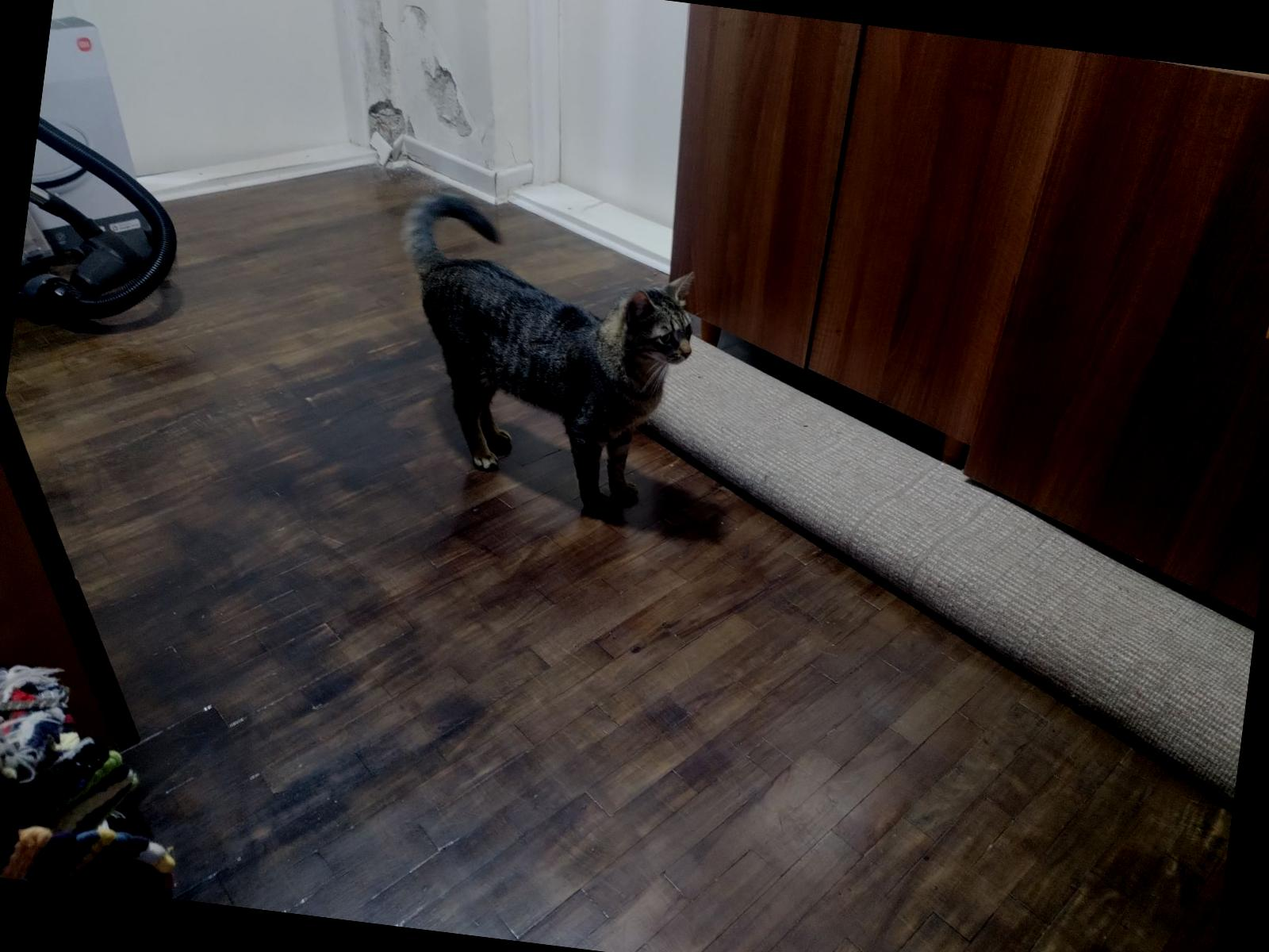macka: (370, 187, 709, 519)
